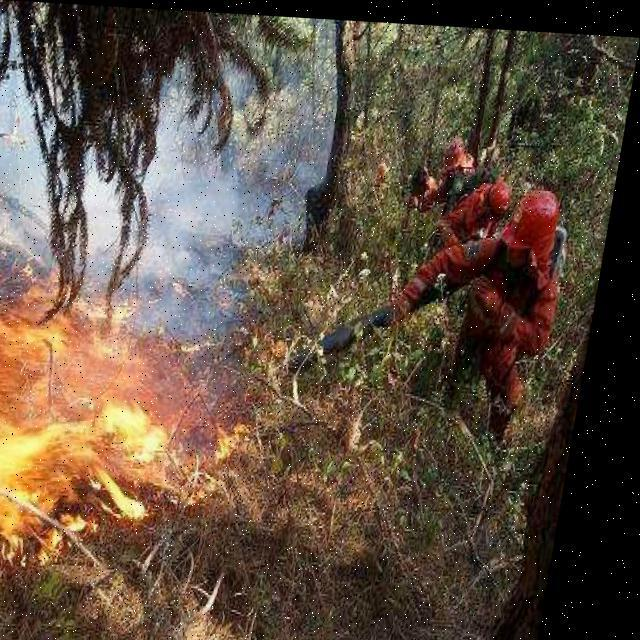Fire: (0, 202, 288, 594)
